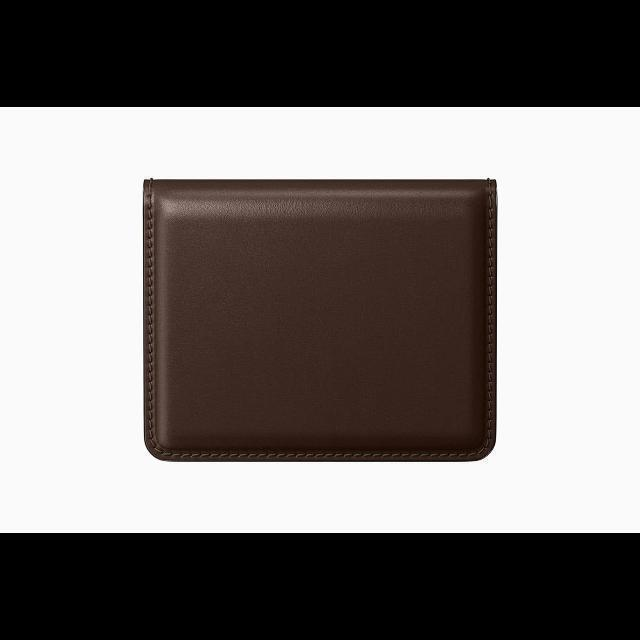wallet: (136, 172, 504, 464)
